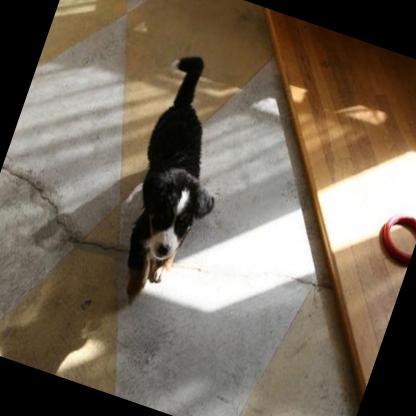Bernese_mountain_dog: (91, 48, 258, 319)
